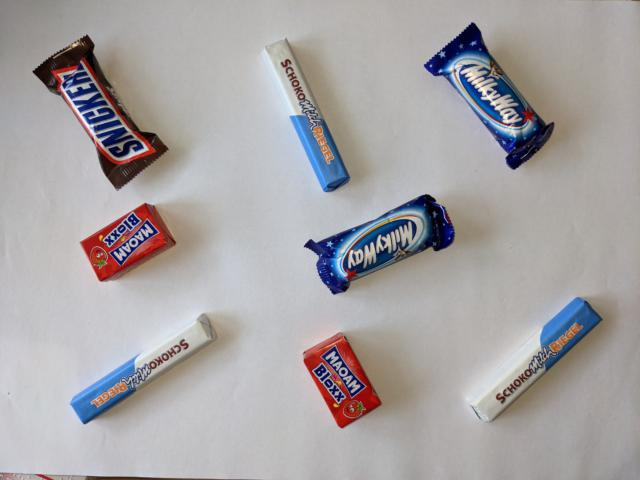MAOAM: (299, 329, 384, 430), (77, 201, 179, 284)
MilkyWay: (421, 20, 558, 173), (300, 192, 458, 298)
Schokoriegel: (461, 293, 605, 427), (67, 310, 222, 428), (257, 32, 352, 194)
Snickers: (31, 32, 171, 192)
